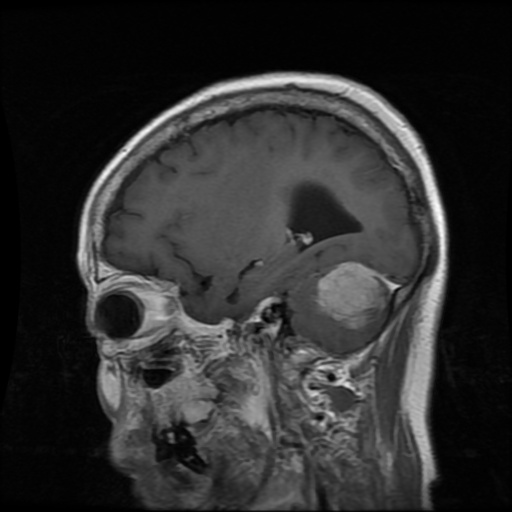meningioma: (317, 261, 391, 327)
